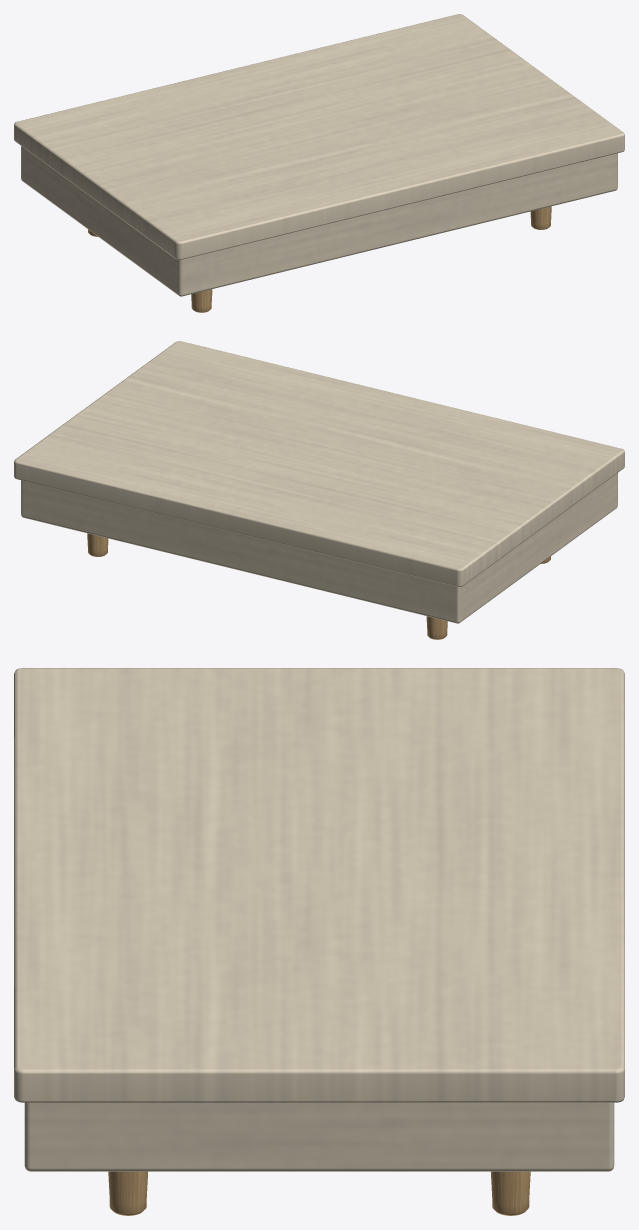
Rendered from plinth_low.glb.
The picture shows the model from 3 angles, top to bottom: view 1: azimuth 30°, elevation 25°; view 2: azimuth 150°, elevation 25°; view 3: azimuth 270°, elevation 25°; orthographic projection. The views are drawn at different scales.
Parts seen in each view (by area): view 1: Stone_detail_group, Oak_detail_group; view 2: Stone_detail_group, Oak_detail_group; view 3: Stone_detail_group, Oak_detail_group.
Boxes of the visible parts, x1,y1,x2,y2 form: Stone_detail_group: [14, 14, 624, 296]; Oak_detail_group: [88, 206, 551, 312]; Stone_detail_group: [14, 341, 624, 623]; Oak_detail_group: [87, 533, 550, 639]; Stone_detail_group: [14, 668, 624, 1171]; Oak_detail_group: [108, 1171, 530, 1215].
Bounding box in the file's own units: 1.8 × 0.39 × 1.15.
Materials: 2 (2 with a texture image).
